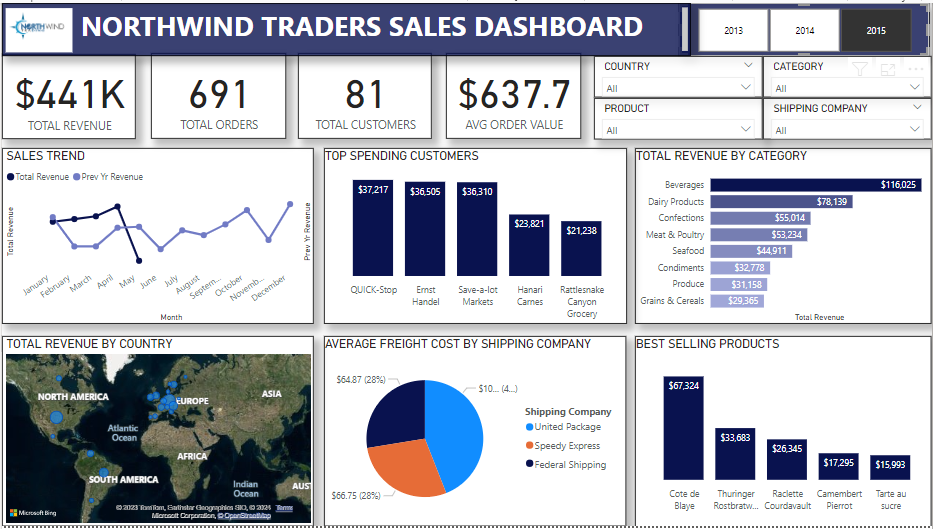

What the dashboard file says about the page in this screenshot:
{"tool":"powerbi","page":{"name":"Sales","canvas":[1280,720],"ordinal":0},"visuals":[{"type":"slicer","fields":{"Values":["Calendar.Year"]},"box":[931.3,0,344.6,73.3],"z":0},{"type":"card","fields":{"Values":["order_details.Total Revenue"]},"box":[0,70.6,185,114],"z":1000},{"type":"card","fields":{"Values":["order_details.Total Orders"]},"box":[204.8,69.2,185.4,114.9],"z":2000},{"type":"card","fields":{"Values":["customers.Total Customers"]},"box":[406.8,69.2,185.4,114.9],"z":3000},{"type":"card","fields":{"Values":["order_details.Avg Order Value"]},"box":[611.6,69.2,185.4,114.9],"z":4000},{"type":"lineChart","title":"SALES TREND","fields":{"Category":["Calendar.Month"],"Y":["order_details.Total Revenue"],"Y2":["Calendar.Prev Yr Revenue"]},"box":[0,199.6,429.4,242.2],"z":5000},{"type":"barChart","title":"TOTAL REVENUE BY CATEGORY","fields":{"Category":["categories.categoryName"],"Y":["order_details.Total Revenue"]},"box":[871.8,199.3,408.2,242.2],"z":6000},{"type":"pieChart","title":"AVERAGE FREIGHT COST BY SHIPPING COMPANY","fields":{"Category":["shippers.companyName"],"Y":["Avg(orders.freight)"]},"box":[443.2,458.3,415.7,261.5],"z":7000},{"type":"textbox","box":[0,0,947.9,73.3],"z":8000},{"type":"image","box":[0,0,102.5,73.9],"z":9000},{"type":"columnChart","title":"TOP SPENDING CUSTOMERS","fields":{"Category":["customers.companyName"],"Y":["order_details.Total Revenue"]},"box":[442.8,199.3,416.5,242.2],"z":10000},{"type":"clusteredColumnChart","title":"BEST SELLING PRODUCTS","fields":{"Category":["products.productName"],"Y":["order_details.Total Revenue"]},"box":[871.8,458,408.2,262.9],"z":11000},{"type":"slicer","fields":{"Values":["customers.country"]},"box":[815,73.3,232.5,56.7],"z":12000},{"type":"slicer","fields":{"Values":["products.productName"]},"box":[815,130.1,232.5,56.7],"z":13000},{"type":"slicer","fields":{"Values":["categories.categoryName"]},"box":[1047.5,73.3,232.5,56.7],"z":14000},{"type":"map","title":"TOTAL REVENUE BY COUNTRY","fields":{"Category":["customers.country"],"Size":["order_details.Total Revenue"]},"box":[0,458.3,429.4,261.5],"z":15000},{"type":"slicer","fields":{"Values":["shippers.companyName"]},"box":[1047.5,130.1,232.5,56.7],"z":16000}]}

Visuals, with their boxes in screenshot pixels (x1, y1, x2, y2), scaled from the page's 1280x720 canvas onto the 933x529 screenshot:
slicer - Calendar.Year: (left=679, top=0, right=930, bottom=54)
card - order_details.Total Revenue: (left=0, top=52, right=135, bottom=136)
card - order_details.Total Orders: (left=149, top=51, right=284, bottom=135)
card - customers.Total Customers: (left=297, top=51, right=432, bottom=135)
card - order_details.Avg Order Value: (left=446, top=51, right=581, bottom=135)
"SALES TREND" lineChart: (left=0, top=147, right=313, bottom=325)
"TOTAL REVENUE BY CATEGORY" barChart: (left=635, top=146, right=932, bottom=324)
"AVERAGE FREIGHT COST BY SHIPPING COMPANY" pieChart: (left=323, top=337, right=626, bottom=528)
textbox: (left=0, top=0, right=691, bottom=54)
image: (left=0, top=0, right=75, bottom=54)
"TOP SPENDING CUSTOMERS" columnChart: (left=323, top=146, right=626, bottom=324)
"BEST SELLING PRODUCTS" clusteredColumnChart: (left=635, top=337, right=932, bottom=528)
slicer - customers.country: (left=594, top=54, right=764, bottom=96)
slicer - products.productName: (left=594, top=96, right=764, bottom=137)
slicer - categories.categoryName: (left=764, top=54, right=932, bottom=96)
"TOTAL REVENUE BY COUNTRY" map: (left=0, top=337, right=313, bottom=528)
slicer - shippers.companyName: (left=764, top=96, right=932, bottom=137)
